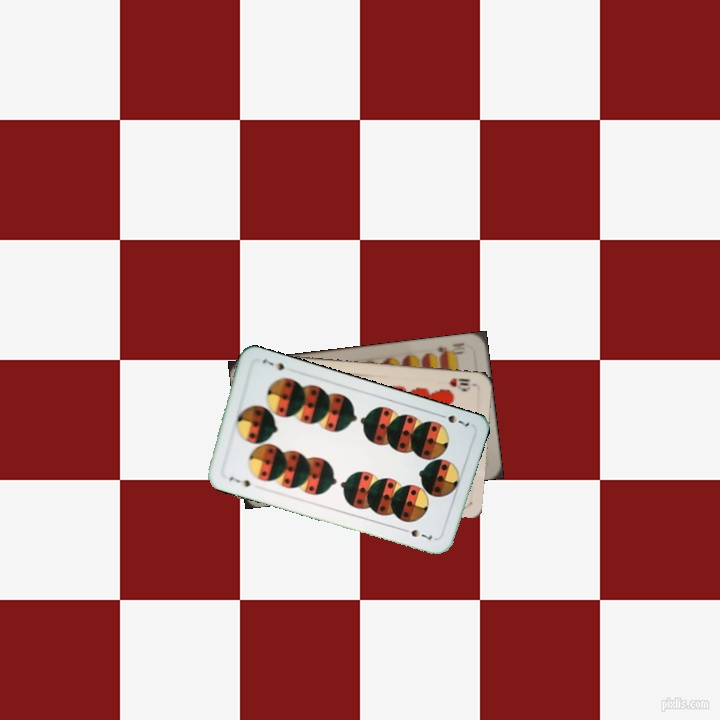E10: (432, 338, 467, 359)
H10: (445, 374, 477, 393)
S7: (434, 410, 472, 429), (225, 473, 253, 490)
